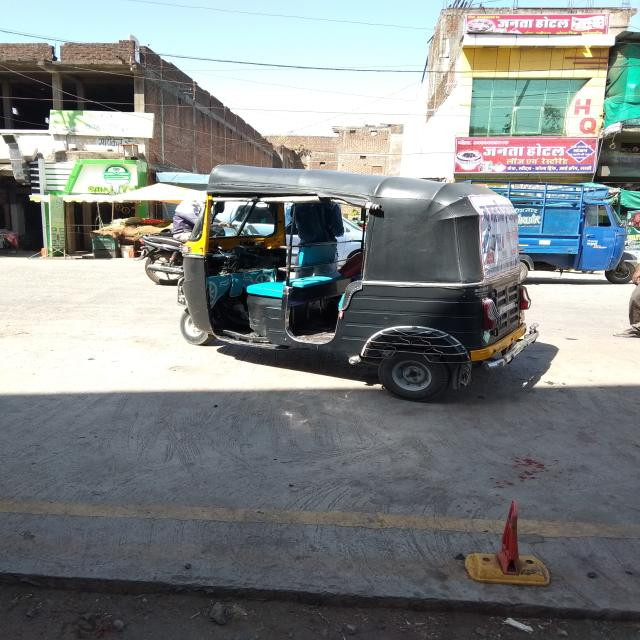Autorickshaw: (174, 149, 558, 410)
Bike: (126, 215, 276, 285)
Car: (174, 196, 384, 274)
tempo: (461, 175, 640, 282)
